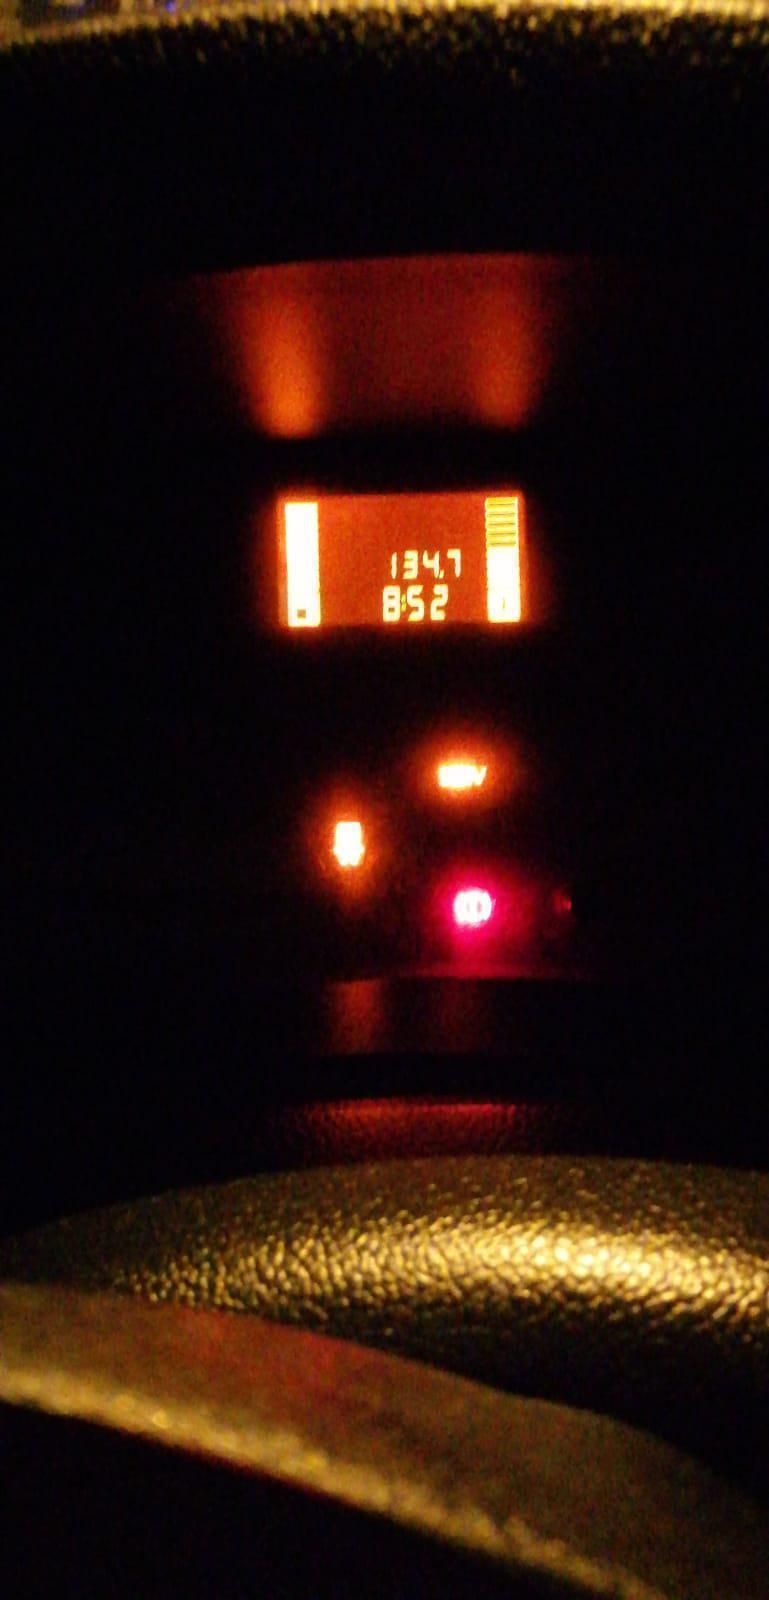,: (438, 568, 445, 579)
1: (390, 550, 398, 579)
2: (429, 583, 448, 621)
3: (401, 548, 418, 579)
4: (421, 549, 440, 578)
5: (406, 583, 424, 622)
7: (446, 548, 461, 577)
8: (381, 584, 401, 623)
X: (400, 592, 407, 612)
odometer: (272, 487, 531, 631)
